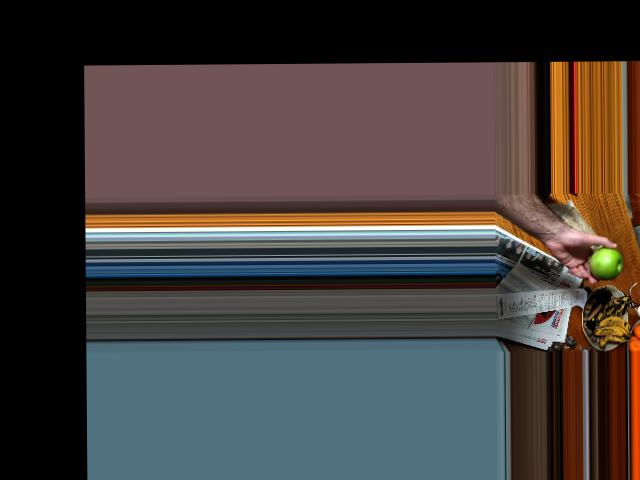apple: (590, 247, 624, 281)
